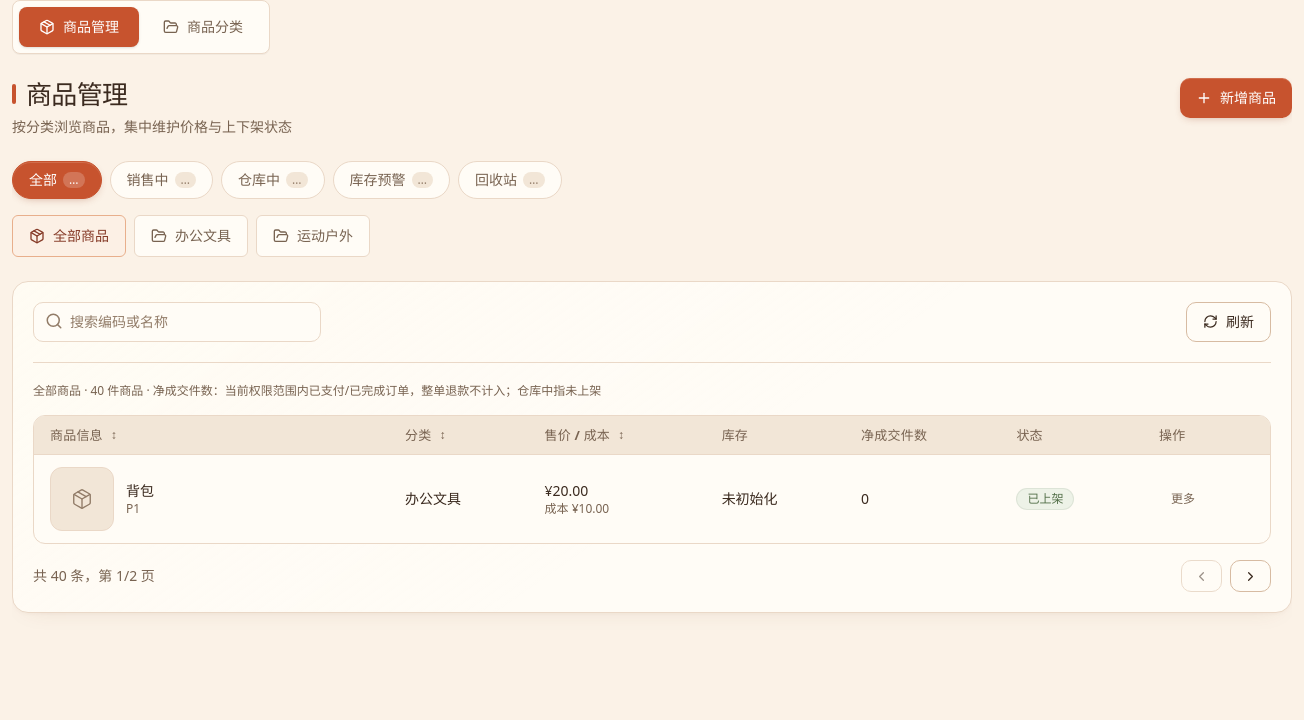
Test: 商品分类导航（仅新增UI路径） › 从分类管理点击分类，进入对应商品列表
Step 1. Click the tab "商品分类" → click(203, 27), box [143,7,263,47]
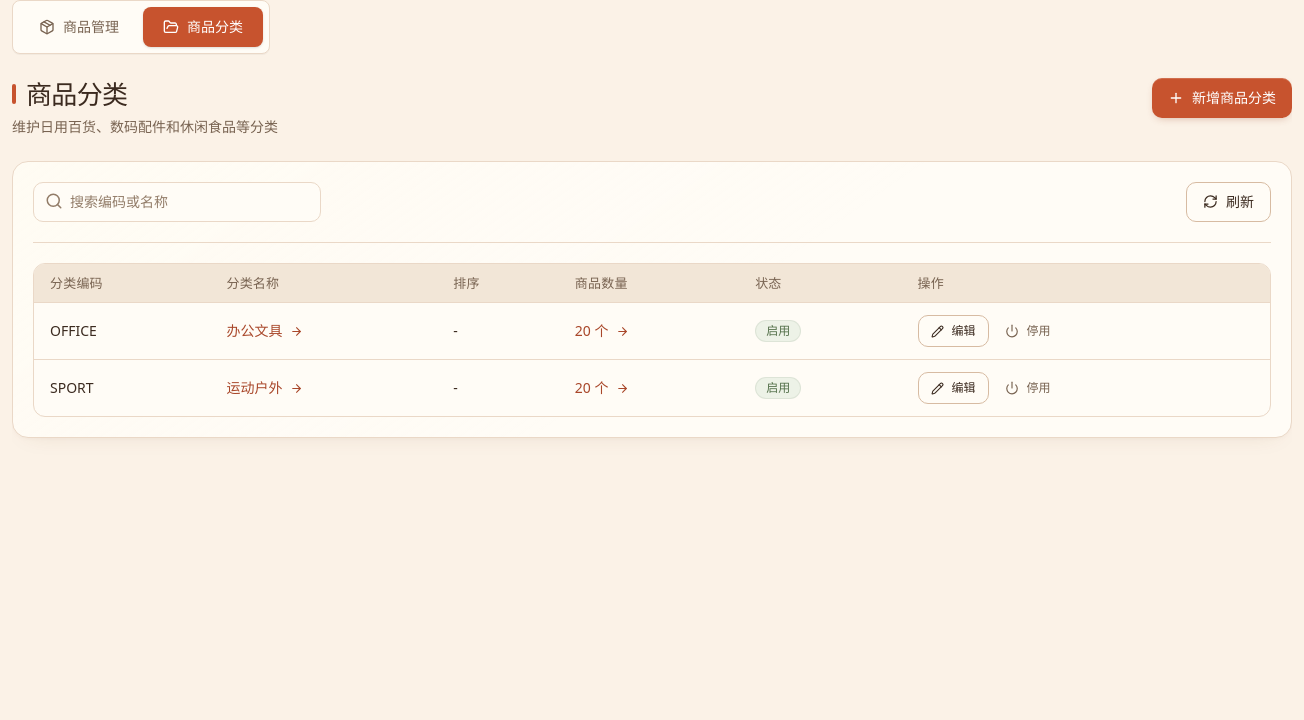
Step 2. Click the button with aria-label "查看办公文具的商品" → click(265, 331), box [226,321,303,341]
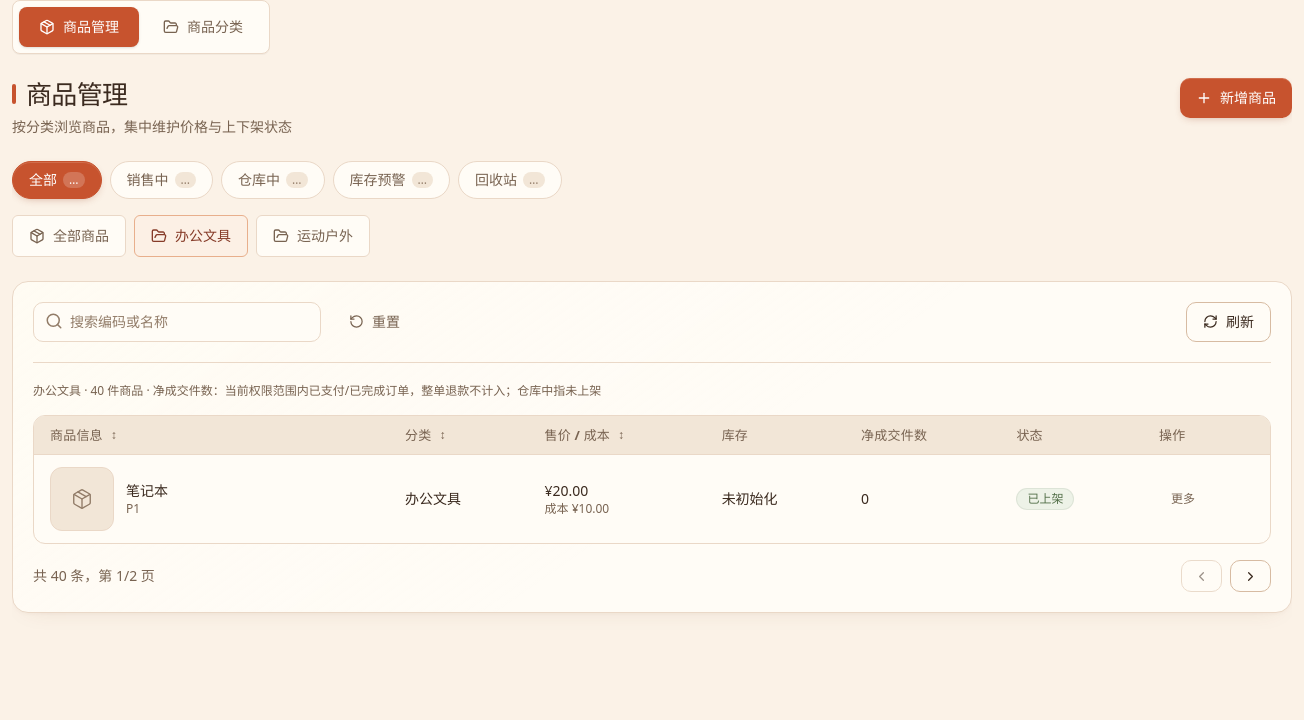
Expected: the text "笔记本" is shown, [126,481,168,501]
